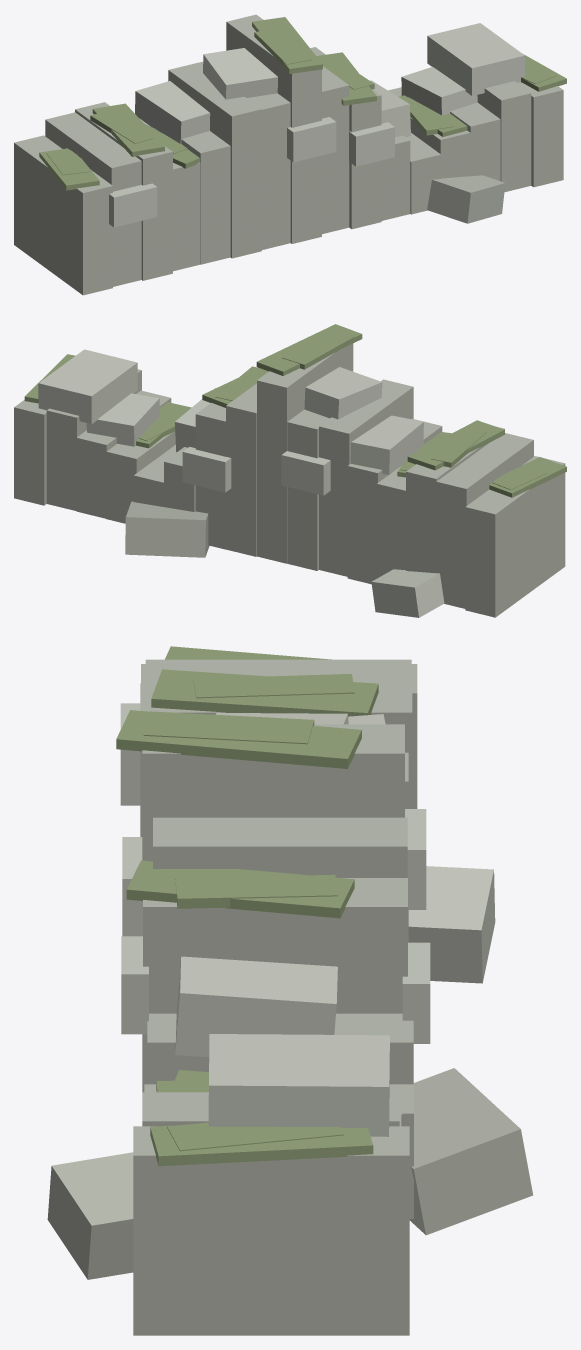
File: ruin_wall_low.glb
3 renders of one model, top to bottom at view 1: azimuth 30°, elevation 25°; view 2: azimuth 150°, elevation 25°; view 3: azimuth 270°, elevation 25°, orthographic. The views are drawn at different scales.
Parts seen in each view (by area): view 1: ruin_wall_low; view 2: ruin_wall_low; view 3: ruin_wall_low.
Boxes of the visible parts, left/top/right/bottom form: ruin_wall_low: left=14, top=14, right=566, bottom=295; ruin_wall_low: left=14, top=324, right=566, bottom=617; ruin_wall_low: left=47, top=646, right=533, bottom=1335.
Bounding box in the file's own units: 4.16 × 1.5 × 1.76.
